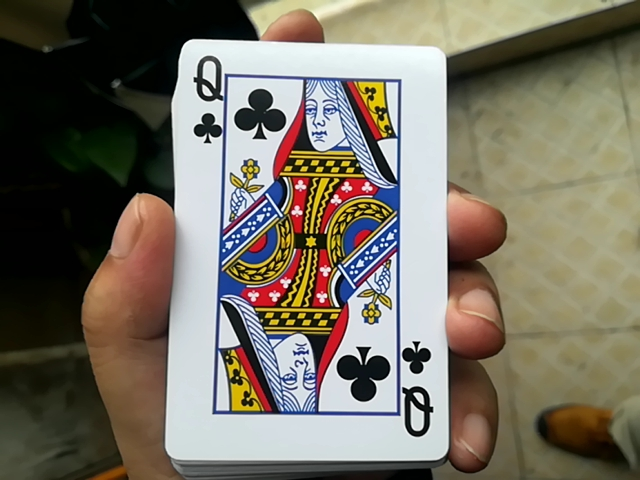mh q: (151, 24, 453, 452)
